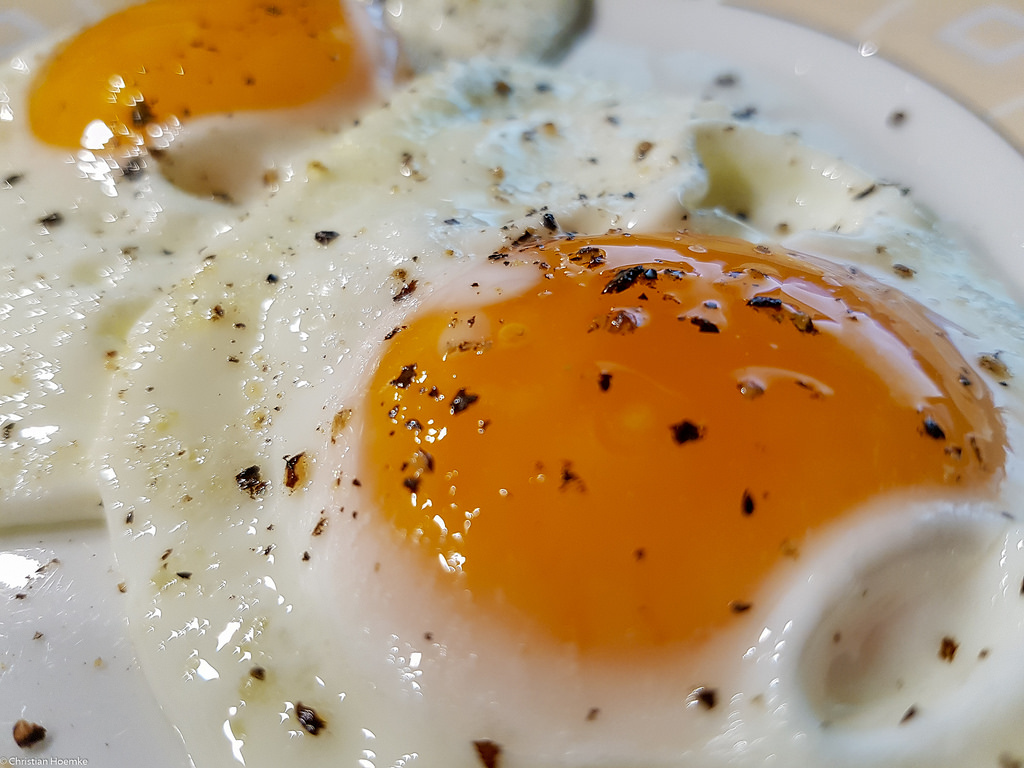fried egg: (86, 17, 968, 768)
